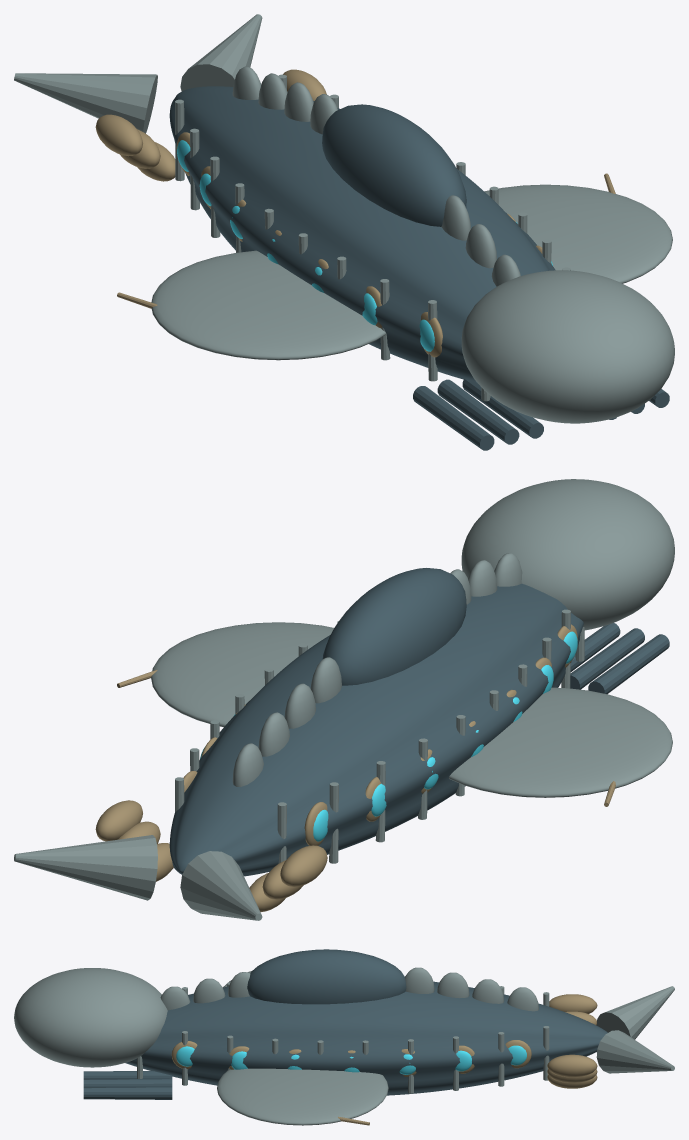
File: deepsea-demon-whale.glb
The picture shows the model from 3 angles, top to bottom: view 1: azimuth 30°, elevation 25°; view 2: azimuth 150°, elevation 25°; view 3: azimuth 270°, elevation 25°; orthographic projection. The views are drawn at different scales.
Parts seen in each view (by area): view 1: DemonWhale_Hull_MainContinuousMetalBody, DemonWhale_Brow_RamPlate, DemonWhale_L_MechanicalWhaleFin, DemonWhale_R_MechanicalWhaleFin, DemonWhale_ConningTower, DemonWhale_L_TailFluke, DemonWhale_R_TailFluke, DemonWhale_L_TorpedoTube1, DemonWhale_L_TorpedoTube2, DemonWhale_L_VectorThruster2, DemonWhale_L_TorpedoTube0, DemonWhale_DorsalRidge2 (+7 smaller); view 2: DemonWhale_Hull_MainContinuousMetalBody, DemonWhale_Brow_RamPlate, DemonWhale_L_MechanicalWhaleFin, DemonWhale_ConningTower, DemonWhale_R_MechanicalWhaleFin, DemonWhale_R_TailFluke, DemonWhale_L_TailFluke, DemonWhale_L_TorpedoTube2, DemonWhale_L_TorpedoTube1, DemonWhale_L_VectorThruster2, DemonWhale_R_VectorThruster2, DemonWhale_DorsalRidge8 (+7 smaller); view 3: DemonWhale_Hull_MainContinuousMetalBody, DemonWhale_Brow_RamPlate, DemonWhale_R_MechanicalWhaleFin, DemonWhale_ConningTower, DemonWhale_R_TailFluke, DemonWhale_L_TailFluke, DemonWhale_R_TorpedoTube2, DemonWhale_R_VectorThruster2, DemonWhale_R_TorpedoTube1, DemonWhale_L_VectorThruster2, DemonWhale_R_TorpedoTube0, DemonWhale_DorsalRidge9 (+13 smaller).
Part boxes in pixels (x1,y1,x2,y2): DemonWhale_Hull_MainContinuousMetalBody: (169,86,555,381); DemonWhale_Brow_RamPlate: (461,270,674,423); DemonWhale_L_MechanicalWhaleFin: (151,250,386,360); DemonWhale_R_MechanicalWhaleFin: (484,184,672,283); DemonWhale_ConningTower: (322,104,466,226); DemonWhale_L_TailFluke: (14,73,157,133); DemonWhale_R_TailFluke: (180,14,262,91); DemonWhale_L_TorpedoTube1: (437,379,519,444); DemonWhale_L_TorpedoTube2: (413,386,494,450); DemonWhale_L_VectorThruster2: (95,114,142,156); DemonWhale_L_TorpedoTube0: (462,379,543,438); DemonWhale_DorsalRidge2: (465,224,496,268); DemonWhale_Hull_MainContinuousMetalBody: (169,583,583,876); DemonWhale_Brow_RamPlate: (461,479,674,630); DemonWhale_L_MechanicalWhaleFin: (448,687,672,797); DemonWhale_ConningTower: (322,568,466,685); DemonWhale_R_MechanicalWhaleFin: (151,622,333,727); DemonWhale_R_TailFluke: (14,835,157,900); DemonWhale_L_TailFluke: (180,851,262,920); DemonWhale_L_TorpedoTube2: (588,634,669,694); DemonWhale_L_TorpedoTube1: (570,628,644,689); DemonWhale_L_VectorThruster2: (280,845,327,886); DemonWhale_R_VectorThruster2: (95,800,142,841); DemonWhale_DorsalRidge8: (310,657,341,703); DemonWhale_Hull_MainContinuousMetalBody: (125,981,607,1095); DemonWhale_Brow_RamPlate: (14,968,167,1067); DemonWhale_R_MechanicalWhaleFin: (217,1068,388,1125); DemonWhale_ConningTower: (247,949,406,1004); DemonWhale_R_TailFluke: (596,1030,674,1073); DemonWhale_L_TailFluke: (596,986,674,1039); DemonWhale_R_TorpedoTube2: (83,1087,172,1099); DemonWhale_R_VectorThruster2: (547,1054,597,1077); DemonWhale_R_TorpedoTube1: (83,1078,172,1087); DemonWhale_L_VectorThruster2: (549,994,597,1013); DemonWhale_R_TorpedoTube0: (83,1071,172,1079); DemonWhale_DorsalRidge9: (437,972,469,998).
Bounding box in the file's own units: 25.79 × 10.02 × 44.63.
